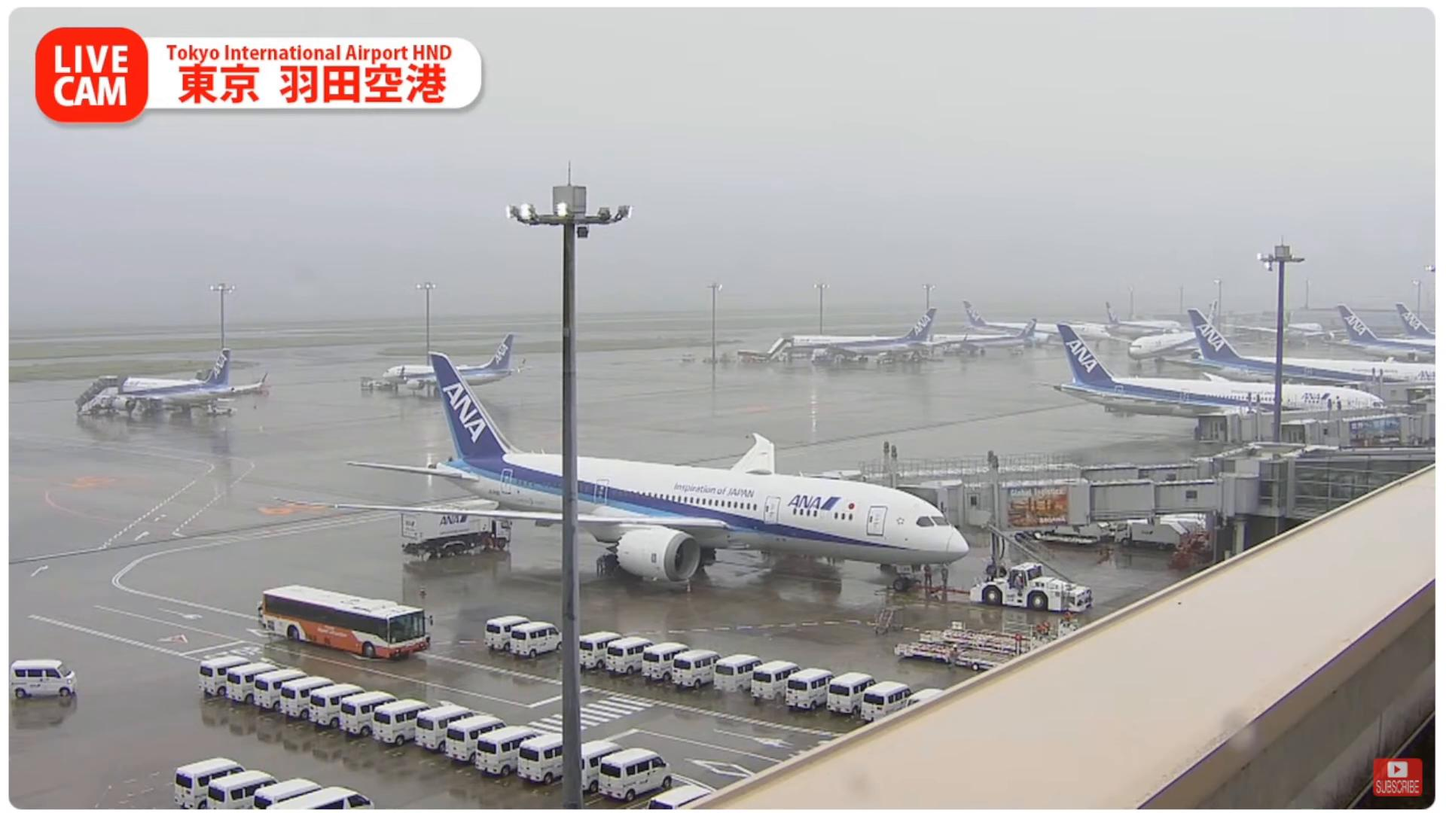APS: (972, 562, 1098, 614)
Aerobridge: (796, 455, 1210, 515), (990, 474, 1182, 535)
Airplane: (270, 351, 970, 592)
Catering: (401, 512, 510, 559)
JCPL: (893, 628, 1049, 669), (1000, 611, 1079, 642)
Window: (1292, 458, 1433, 516)
